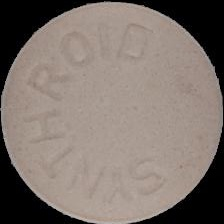0074-7068: (0, 0, 224, 224)
